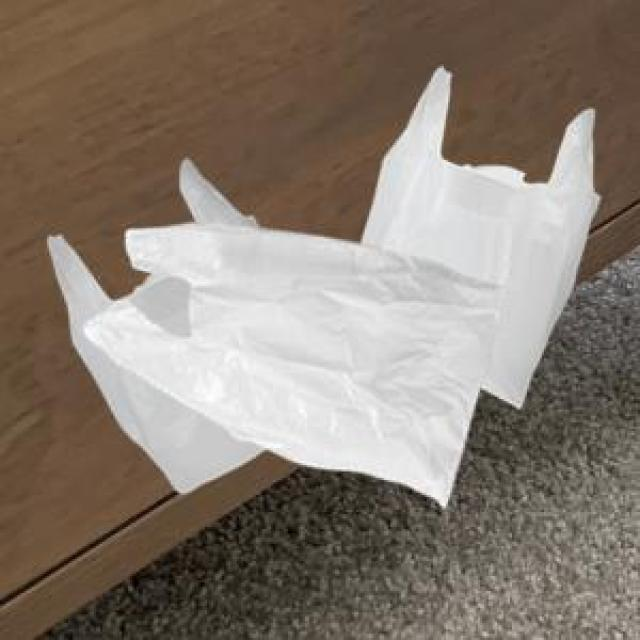waste: (49, 68, 599, 504)
